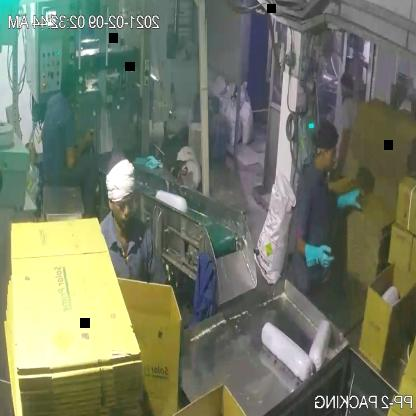glove: (293, 238, 337, 276), (330, 184, 371, 218)
no_glove: (61, 124, 95, 175)
